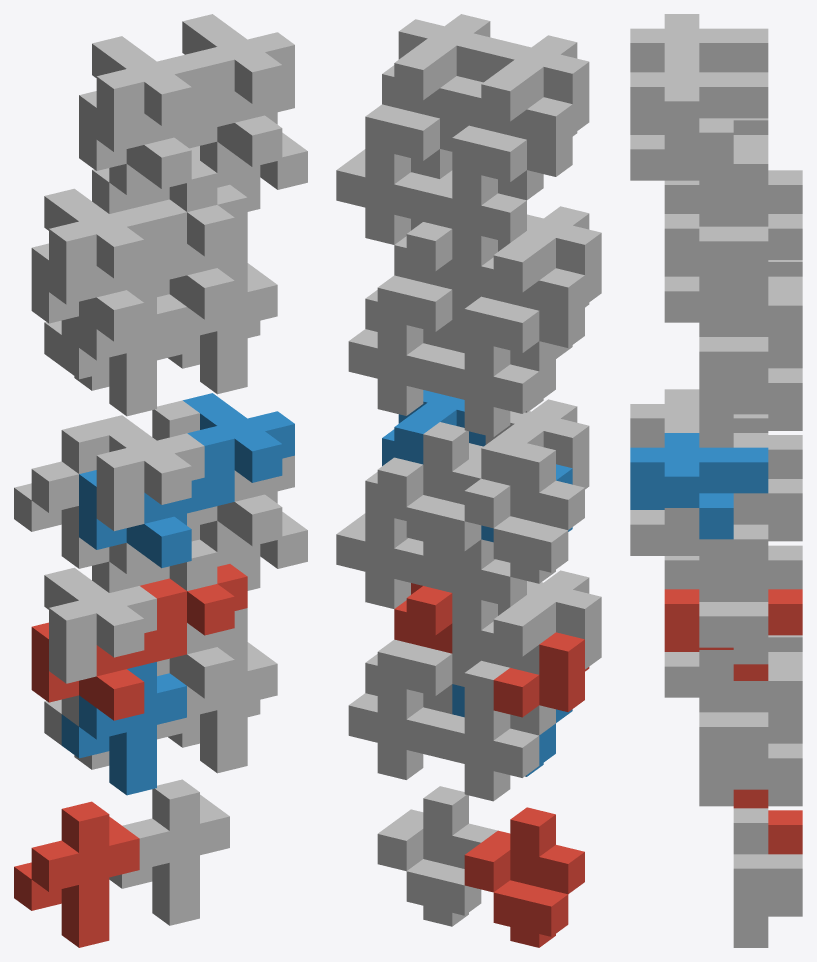
Rendered from tiling.obj.
3 renders of one model, left to right at view 1: azimuth 30°, elevation 25°; view 2: azimuth 150°, elevation 25°; view 3: azimuth 270°, elevation 25°, orthographic. The views are drawn at different scales.
Parts seen in each view (by area): view 1: copy_4_domain_1, copy_4_domain_5, copy_2_domain_4, copy_2_domain_1, copy_2_domain_3, copy_2_domain_2, copy_4_domain_4, copy_4_domain_2, copy_2_domain_8, copy_2_domain_6, copy_4_domain_3, copy_4_domain_6 (+18 smaller); view 2: copy_4_domain_1, copy_4_domain_3, copy_4_domain_5, copy_4_domain_7, copy_3_domain_4, copy_3_domain_1, copy_3_domain_3, copy_2_domain_4, copy_3_domain_8, copy_3_domain_7, copy_3_domain_5, copy_2_domain_3 (+16 smaller); view 3: copy_2_domain_6, copy_2_domain_8, copy_3_domain_6, copy_3_domain_8, copy_4_domain_5, copy_2_domain_4, copy_3_domain_5, copy_4_domain_6, copy_4_domain_8, copy_3_domain_7, copy_1_domain_8, copy_1_domain_7 (+17 smaller).
Boxes of the visible parts, x1,y1,x2,y2 form: copy_4_domain_1: [14, 801, 139, 947]; copy_4_domain_5: [109, 779, 229, 925]; copy_2_domain_4: [92, 36, 204, 151]; copy_2_domain_1: [44, 567, 156, 683]; copy_2_domain_3: [44, 188, 156, 304]; copy_2_domain_2: [92, 415, 204, 531]; copy_4_domain_4: [61, 282, 186, 416]; copy_4_domain_2: [61, 662, 186, 795]; copy_2_domain_8: [182, 14, 294, 129]; copy_2_domain_6: [183, 393, 294, 508]; copy_4_domain_3: [14, 422, 109, 568]; copy_4_domain_6: [169, 639, 277, 773]; copy_4_domain_1: [464, 807, 584, 947]; copy_4_domain_3: [464, 443, 584, 583]; copy_4_domain_5: [377, 786, 497, 926]; copy_4_domain_7: [377, 422, 481, 562]; copy_3_domain_4: [423, 125, 543, 265]; copy_3_domain_1: [435, 660, 555, 801]; copy_3_domain_3: [435, 296, 555, 437]; copy_2_domain_4: [469, 35, 589, 139]; copy_3_domain_8: [336, 104, 452, 244]; copy_3_domain_7: [348, 275, 452, 415]; copy_3_domain_5: [348, 639, 452, 779]; copy_2_domain_3: [481, 206, 601, 310]; copy_2_domain_6: [630, 433, 768, 539]; copy_2_domain_8: [630, 57, 768, 163]; copy_3_domain_6: [699, 524, 768, 664]; copy_3_domain_8: [699, 149, 768, 288]; copy_4_domain_5: [733, 808, 802, 947]; copy_2_domain_4: [630, 14, 768, 72]; copy_3_domain_5: [733, 666, 802, 806]; copy_4_domain_6: [699, 681, 768, 806]; copy_4_domain_8: [699, 305, 768, 430]; copy_3_domain_7: [733, 291, 802, 430]; copy_1_domain_8: [630, 132, 768, 195]; copy_1_domain_7: [664, 274, 802, 336].
Bounding box in the file's own units: 8 × 28 × 5.
